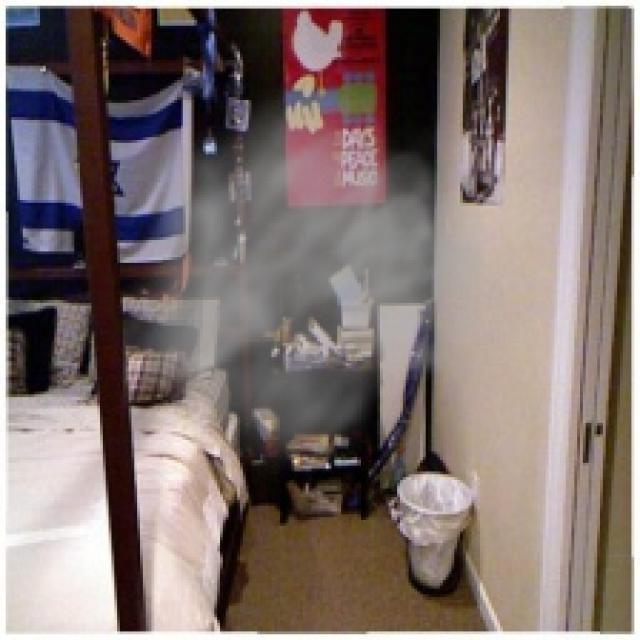Smoke: (122, 68, 534, 483)
